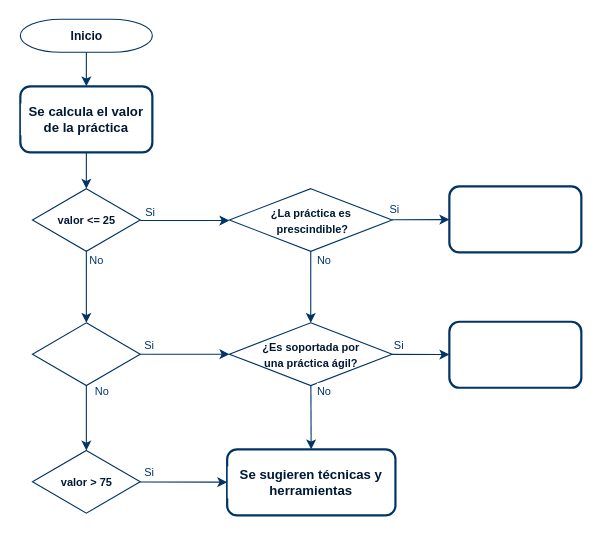
Image size: 601x536. Some labels were removed from this diagram. Here are the shapes that lost their labels. From the top down, the centre of each, then its label:
point (515, 219): Se quita práctica
point (85, 354): 25 < valor <=75
point (515, 354): Se cambia por una práctica ágil
